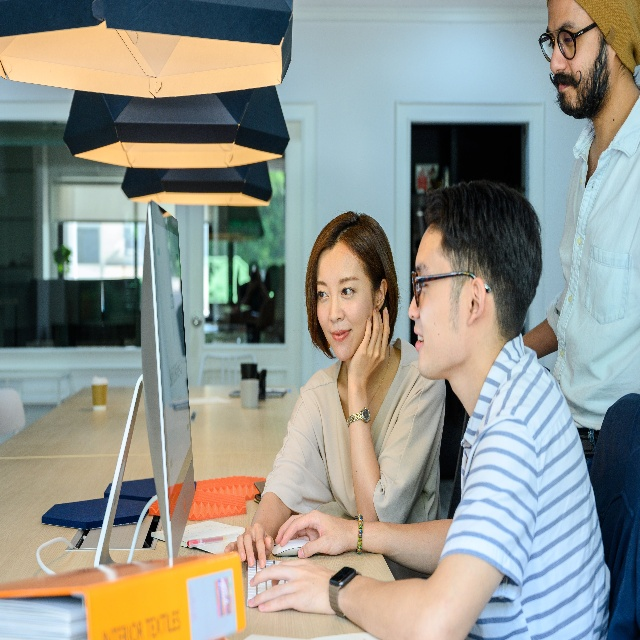Gafas: (409, 263, 491, 305), (537, 20, 597, 63)
Sin_guantes: (248, 560, 336, 621), (274, 511, 360, 559), (226, 524, 275, 565)
